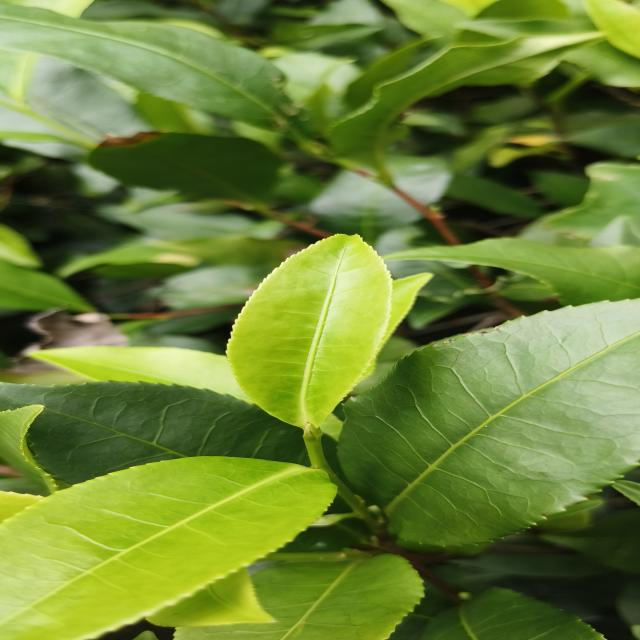Leaf: (339, 300, 640, 552), (0, 456, 335, 640), (329, 31, 597, 182), (0, 4, 301, 132), (227, 234, 392, 428), (0, 381, 308, 484), (175, 554, 423, 640), (383, 238, 640, 305), (88, 133, 282, 204), (32, 346, 250, 401), (421, 587, 603, 640), (309, 170, 421, 242), (148, 568, 274, 627), (0, 261, 93, 312), (390, 156, 451, 204)
